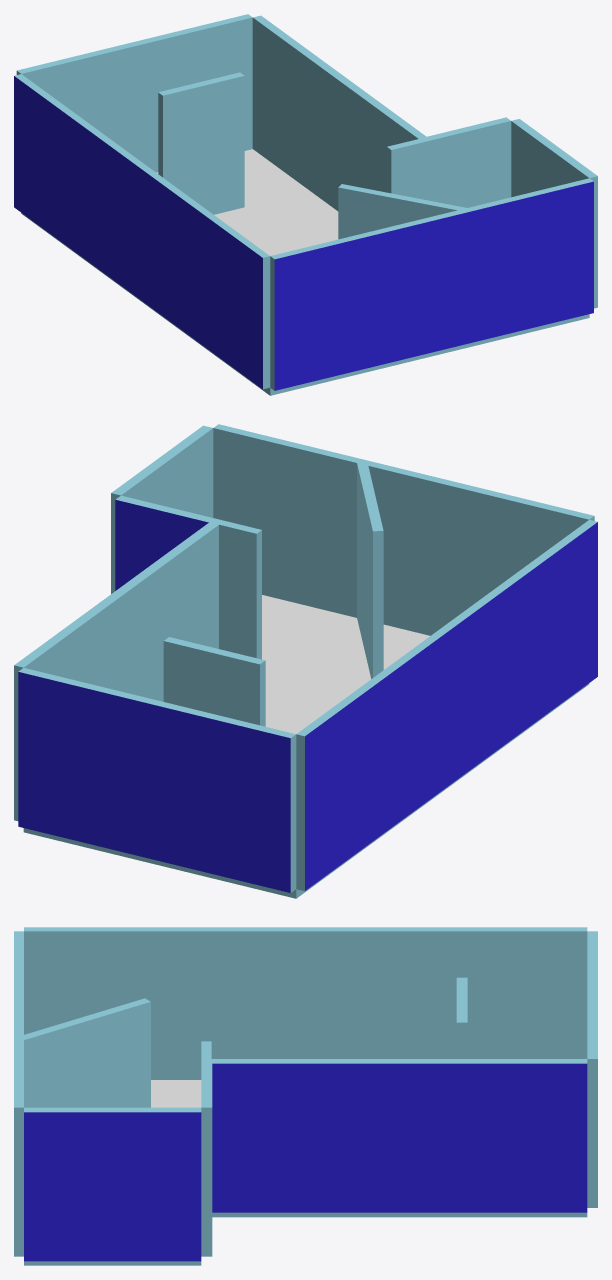
Rendered from greenhouse.dae.
The picture shows the model from 3 angles, top to bottom: view 1: azimuth 30°, elevation 25°; view 2: azimuth 150°, elevation 25°; view 3: azimuth 270°, elevation 25°; orthographic projection. The views are drawn at different scales.
Parts seen in each view (by area): view 1: Robotics Lab Limo Enclosure; view 2: Robotics Lab Limo Enclosure; view 3: Robotics Lab Limo Enclosure.
Boxes of the visible parts, x1=… form: Robotics Lab Limo Enclosure: x1=14, y1=14, x2=597, y2=395; Robotics Lab Limo Enclosure: x1=14, y1=424, x2=597, y2=898; Robotics Lab Limo Enclosure: x1=14, y1=927, x2=597, y2=1265.
Size of the model in its own units: 2.13 by 2.84 by 0.85.
